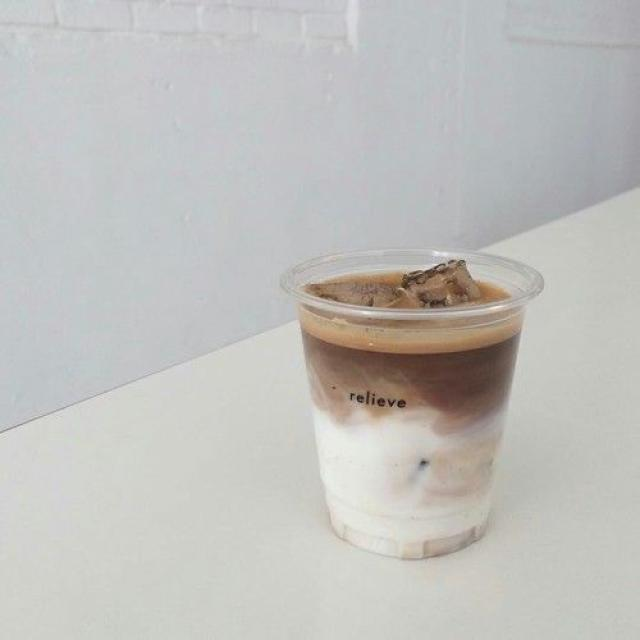plastic cup: (282, 246, 545, 558)
